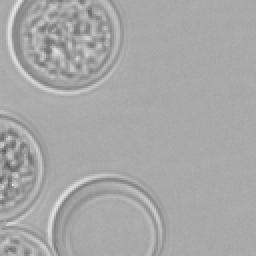picoshell: (6, 0, 122, 94), (46, 172, 164, 254), (0, 110, 44, 220), (0, 222, 56, 254)
